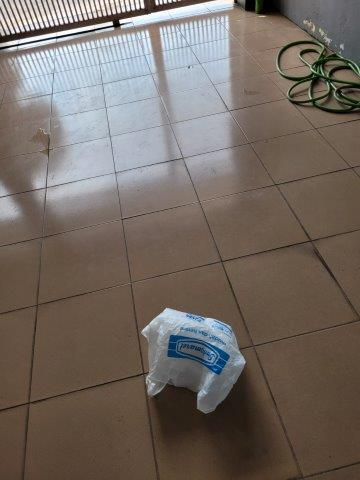plastik: (138, 307, 245, 412)
